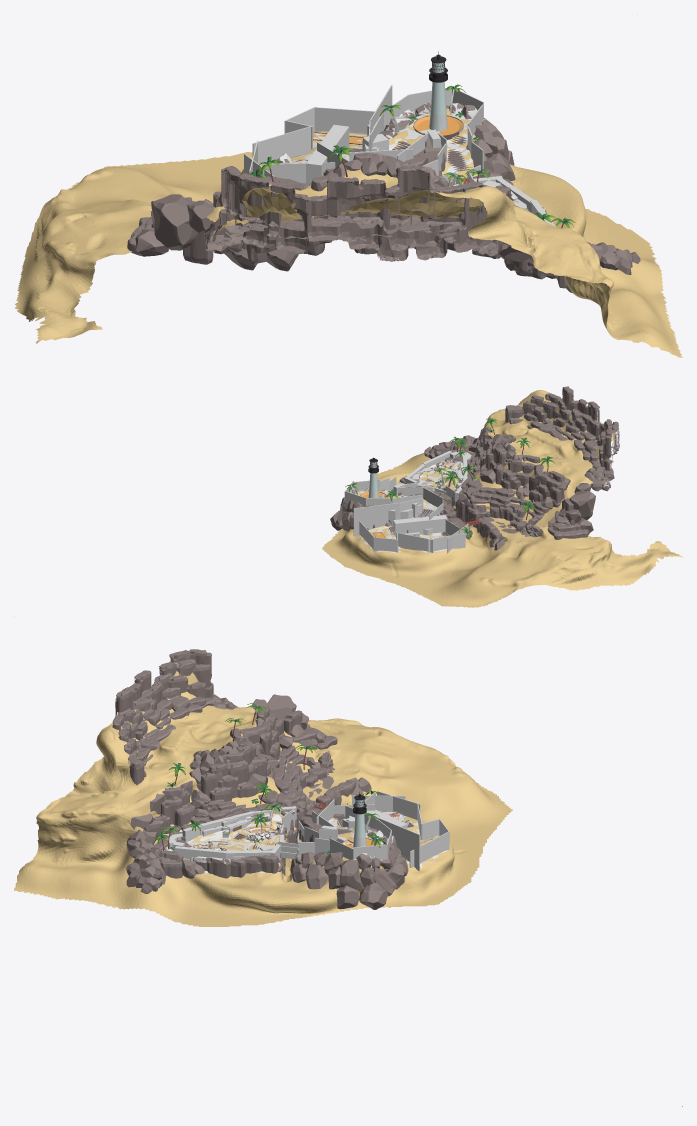
The model's file is Golf_28_TOM-forENG.glb.
The picture shows the model from 3 angles, top to bottom: view 1: azimuth 30°, elevation 25°; view 2: azimuth 150°, elevation 25°; view 3: azimuth 270°, elevation 25°; orthographic projection. The views are drawn at different scales.
Visible parts, largest first — view 1: Ground, rocks decimate lvl2, Circle, Cube.071, Cube.068, Plane.005, trimesh.009, Cube.080, Cube.074, Stairs.017; view 2: Ground, rocks decimate lvl2, Plane.005, Cube.067, Cube.074, Cube.071, Cube.072, Circle; view 3: Ground, rocks decimate lvl2, Plane.005, trimesh, Cube.067.
Part boxes in pixels (x1=…): Ground: x1=14, y1=108, x2=682, y2=357; rocks decimate lvl2: x1=127, y1=102, x2=640, y2=292; Circle: x1=414, y1=51, x2=463, y2=135; Cube.071: x1=252, y1=125, x2=312, y2=164; Cube.068: x1=314, y1=107, x2=374, y2=133; Plane.005: x1=249, y1=84, x2=575, y2=228; trimesh.009: x1=389, y1=113, x2=476, y2=176; Cube.080: x1=263, y1=162, x2=335, y2=183; Cube.074: x1=312, y1=124, x2=349, y2=157; Stairs.017: x1=341, y1=135, x2=473, y2=171; Ground: x1=322, y1=390, x2=682, y2=607; rocks decimate lvl2: x1=330, y1=386, x2=619, y2=550; Plane.005: x1=345, y1=418, x2=554, y2=538; Cube.067: x1=353, y1=502, x2=399, y2=536; Cube.074: x1=393, y1=516, x2=436, y2=537; Cube.071: x1=396, y1=532, x2=433, y2=552; Cube.072: x1=428, y1=532, x2=465, y2=552; Circle: x1=361, y1=457, x2=387, y2=498; Ground: x1=14, y1=662, x2=512, y2=926; rocks decimate lvl2: x1=112, y1=649, x2=413, y2=909; Plane.005: x1=153, y1=703, x2=408, y2=859; trimesh: x1=156, y1=814, x2=282, y2=873; Cube.067: x1=376, y1=817, x2=419, y2=871.
Size of what is drawn, in the model's own units: 252 by 76.02 by 224.
Materials: 1 (1 with a texture image).
